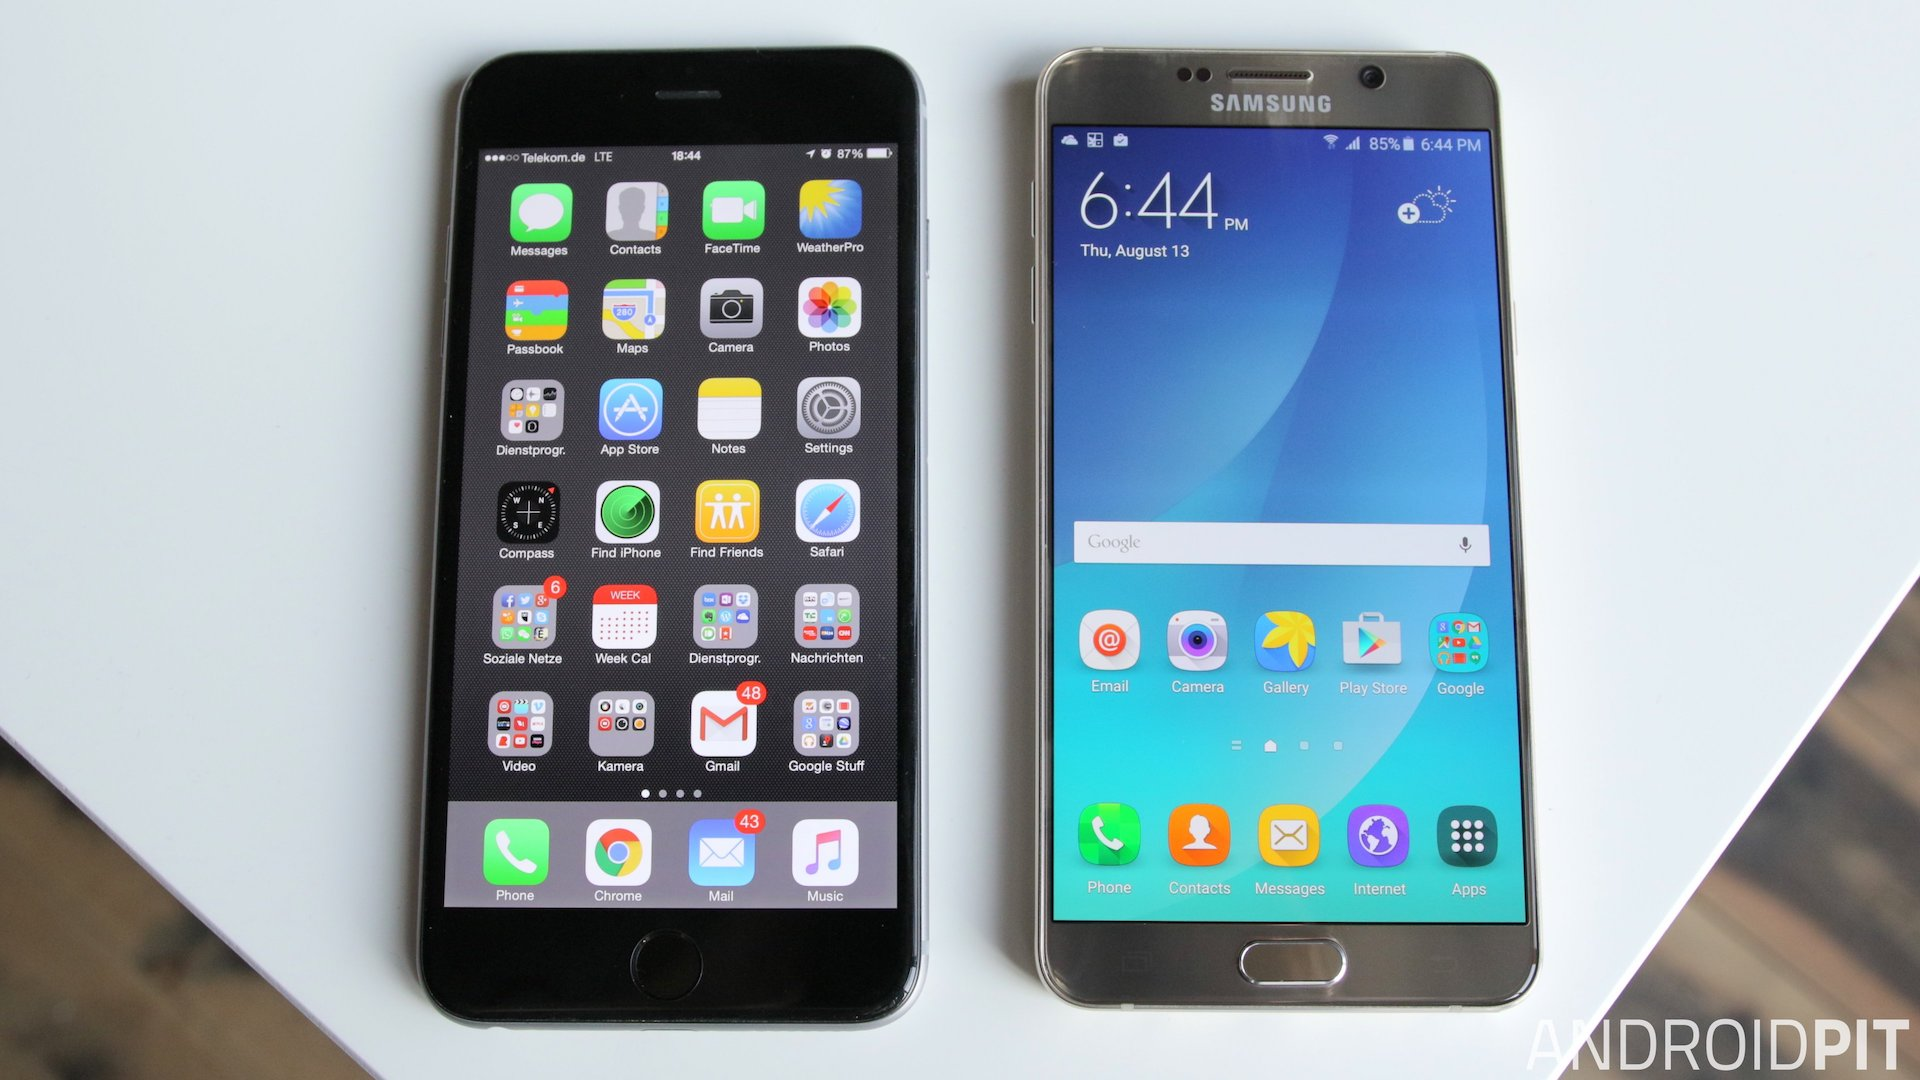smartphone: (410, 44, 928, 1034), (1025, 47, 1545, 1013)
